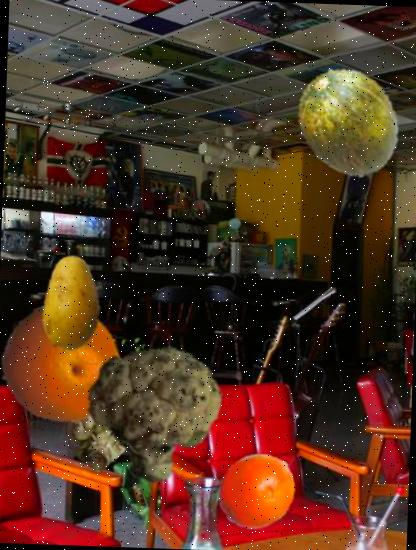Cauliflower: (87, 337, 231, 481), (66, 404, 134, 470)
Grapefruit: (0, 302, 123, 426)
Melon: (288, 64, 404, 182)
Potato: (22, 254, 122, 354)
Tangelo: (215, 448, 299, 532)
